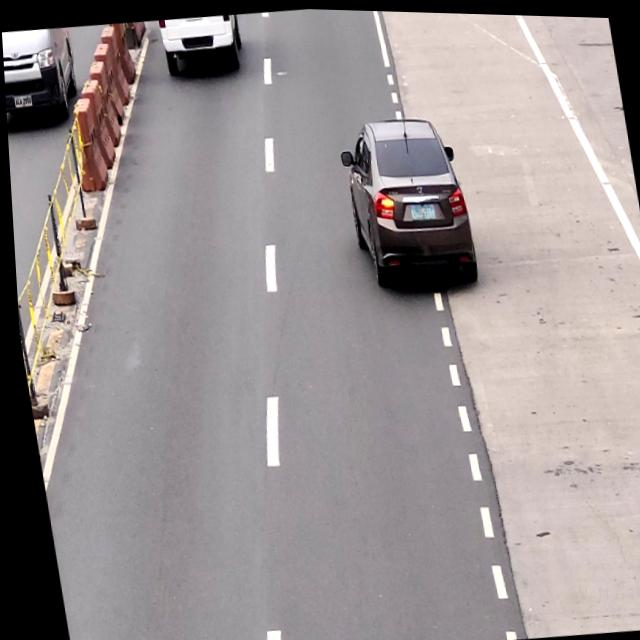Car: (328, 107, 473, 289)
License-Plate: (408, 201, 433, 218)
